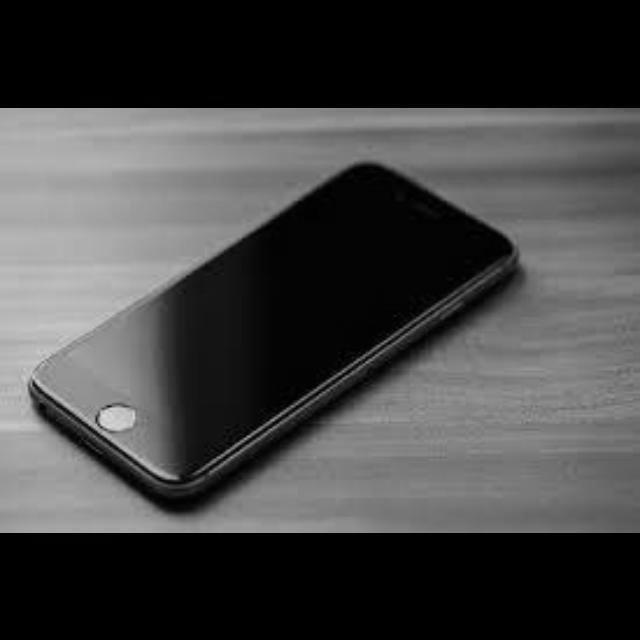fake: (17, 156, 522, 508)
